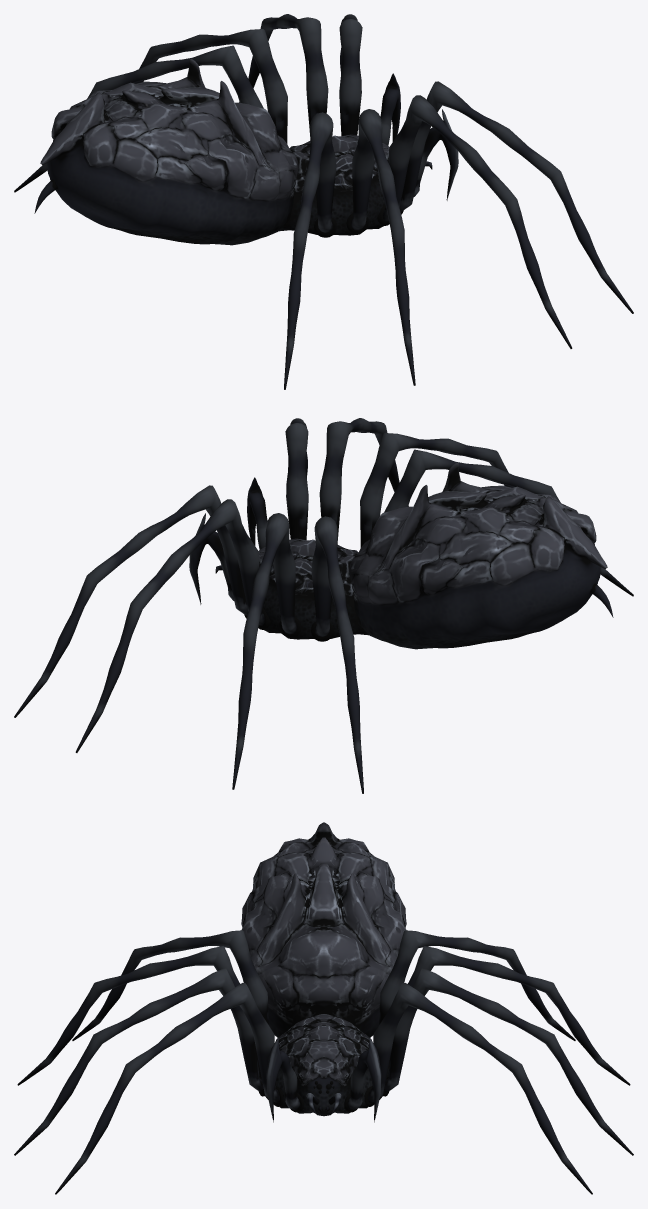
Rendered from CaveSpider.fbx.
The picture shows the model from 3 angles, top to bottom: view 1: azimuth 30°, elevation 25°; view 2: azimuth 150°, elevation 25°; view 3: azimuth 270°, elevation 25°; orthographic projection. The views are drawn at different scales.
Visible parts, largest first — view 1: CaveSpider; view 2: CaveSpider; view 3: CaveSpider.
Part boxes in pixels (bbox=[...]): CaveSpider: bbox=[14, 14, 633, 389]; CaveSpider: bbox=[14, 418, 633, 793]; CaveSpider: bbox=[14, 822, 633, 1194].
Bounding box in the file's own units: 467 × 207 × 593.
